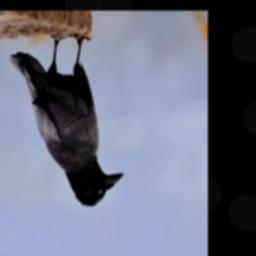Crow: (10, 35, 124, 208)
